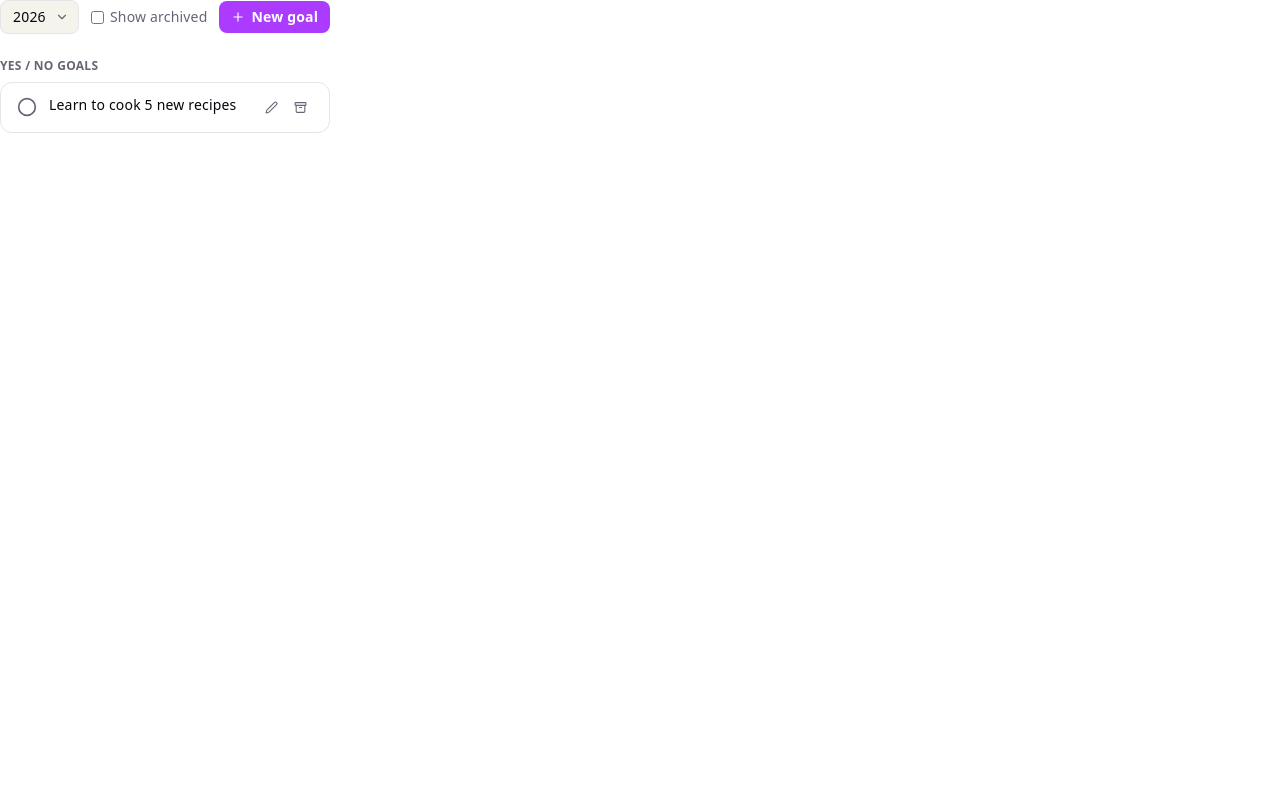
Scenario: GoalsList › requires confirmation before marking a binary goal complete
The image size is (1280, 800).
Expected: the text "Learn to cook 5 new recipes" is shown, [49,95,247,115]
Note: Click the circle checkbox
Click the button named "mark complete".
click(27, 107)  # box [17,97,37,117]
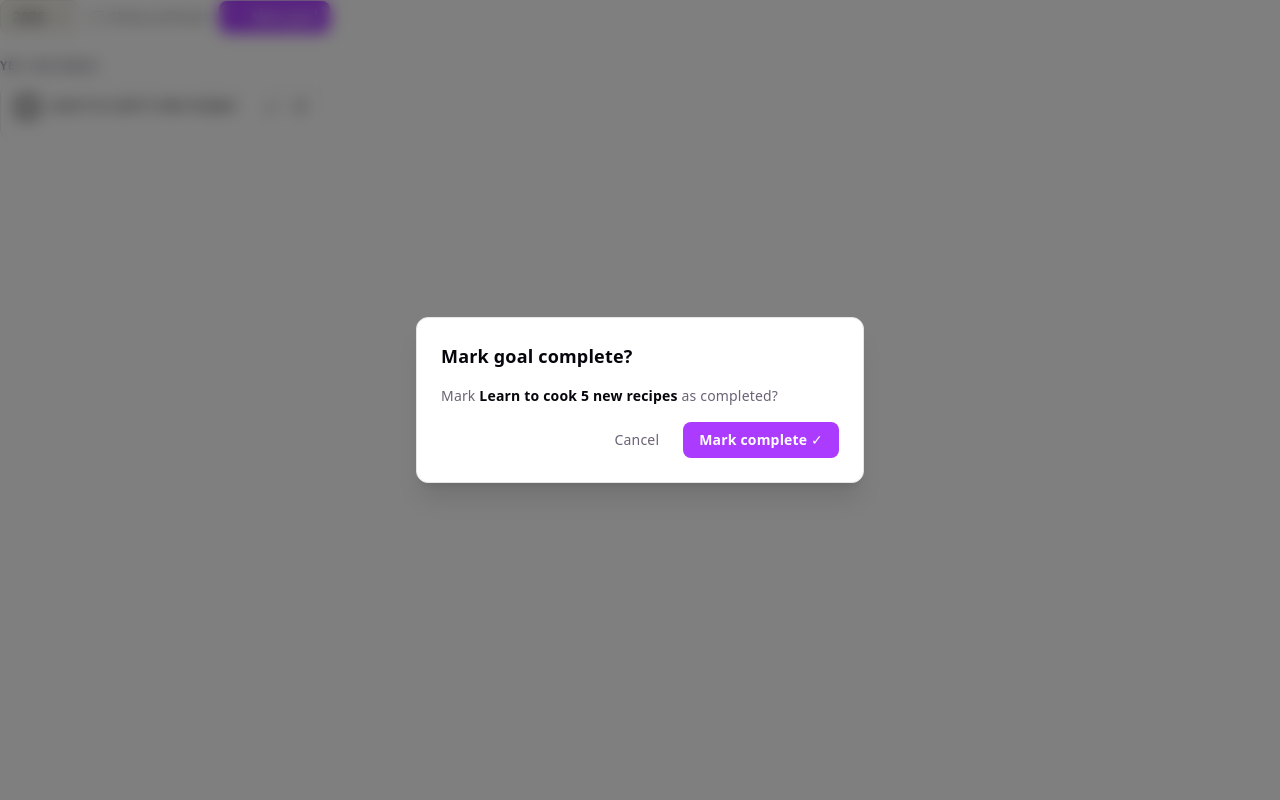
Now the heading "Mark goal complete?" is shown, box [441,344,632,368]
